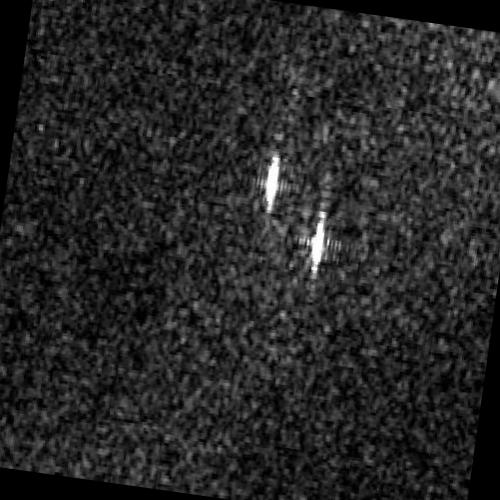ship: (264, 156, 282, 215), (309, 212, 325, 274)
